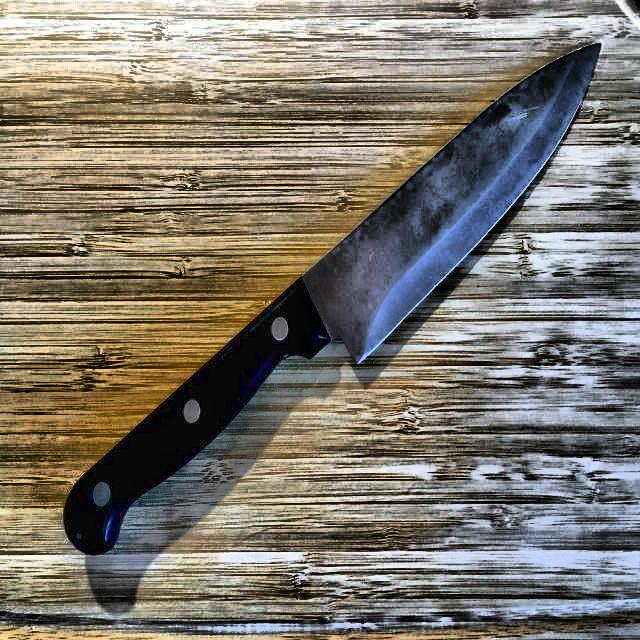knife: (62, 35, 609, 551)
